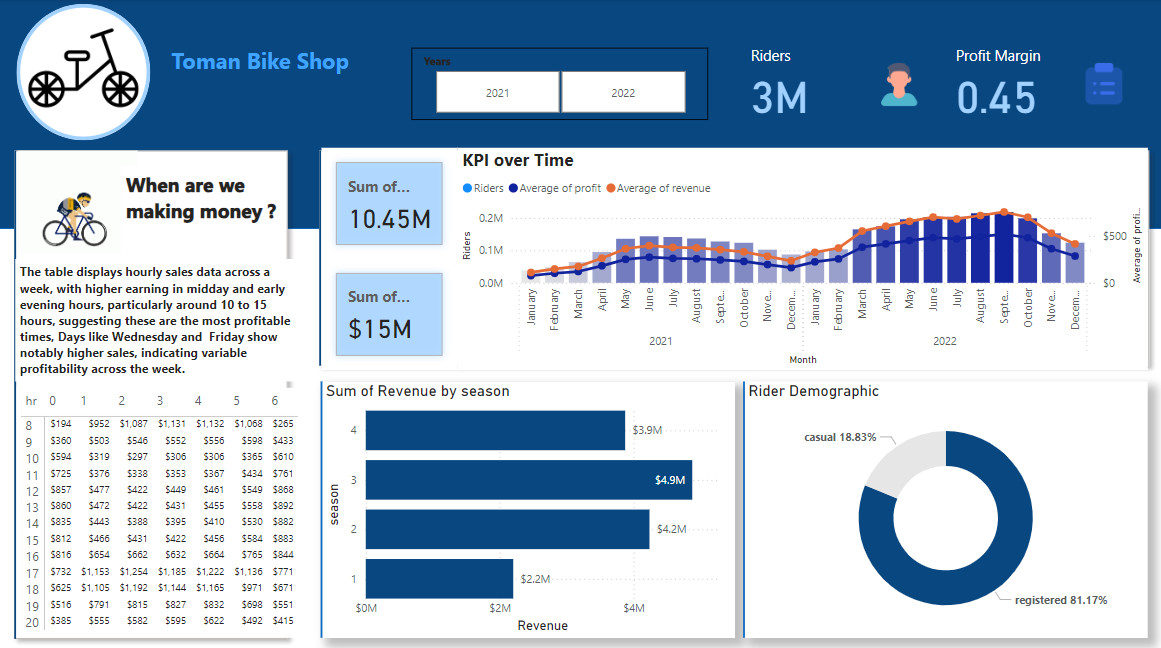

Layout of this report page (visuals, bound fields, positions):
{"tool":"powerbi","page":{"name":"Page 1","canvas":[1280,720],"ordinal":0},"visuals":[{"type":"shape","box":[0,0,1280.3,252.5],"z":0},{"type":"cardVisual","fields":{"Data":["Sum(Query1.riders)"]},"box":[0,149.6,334.8,570.8],"z":1000},{"type":"cardVisual","fields":{"Data":["Sum(Query1.riders)"]},"box":[334.8,149.6,945.5,270.3],"z":2000},{"type":"clusteredBarChart","title":"Sum of Revenue by season","fields":{"Category":["Query1.season"],"Y":["Sum(Query1.revenue)"]},"box":[354,419.9,454.2,281.3],"z":3000},{"type":"cardVisual","fields":{"Data":["Sum(Query1.riders)"]},"box":[0,149.6,177,135.8],"z":4000},{"type":"pivotTable","fields":{"Rows":["Query1.hr"],"Values":["Avg(Query1.revenue)"],"Columns":["Query1.weekday"]},"box":[19.2,426.8,317,274.4],"z":5000},{"type":"textbox","box":[134.5,183.9,179.8,101.5],"z":6000},{"type":"textbox","box":[17.8,285.4,317,134.5],"z":7000},{"type":"lineClusteredColumnComboChart","title":"KPI over Time","fields":{"Y":["Sum(Query1.riders)"],"Category":["Query1.dteday.Variation.Date Hierarchy.Year","Query1.dteday.Variation.Date Hierarchy.Month","Query1.dteday.Variation.Date Hierarchy.Day"],"Y2":["Avg(Query1.profit)","Avg(Query1.revenue)"]},"box":[503.6,163.3,757.5,244.3],"z":8000},{"type":"donutChart","title":"Rider Demographic","fields":{"Category":["Query1.rider_type"],"Y":["Sum(Query1.riders)"]},"box":[817.8,419.9,443.2,281.3],"z":9000},{"type":"shape","box":[668.3,419.9,299.1,281.3],"z":10000},{"type":"shape","box":[204.5,419.9,299.1,281.3],"z":11000},{"type":"cardVisual","title":"KPI over Time","fields":{"Data":["Sum(Query1.profit)","Sum(Query1.revenue)"]},"box":[354,163.3,149.6,244.3],"z":12000},{"type":"cardVisual","fields":{"Data":["Sum(Query1.riders)","Query1.Profit Margin"]},"box":[808.2,23.3,452.8,140],"z":13000},{"type":"shape","box":[19.2,5.5,146.8,149.6],"z":14000},{"type":"image","box":[27.4,0,130.4,149.6],"z":14001},{"type":"textbox","box":[177,46.7,219.6,65.9],"z":14002},{"type":"slicer","fields":{"Values":["Query1.Years"]},"box":[452.8,53.5,325.2,79.6],"z":14003}]}

Visuals, with their boxes in screenshot pixels (x1, y1, x2, y2), scaled from the page's 1280x720 canvas onto the 1161x648 screenshot:
shape: rect(0, 0, 1160, 227)
cardVisual - Sum(Query1.riders): rect(0, 135, 304, 647)
cardVisual - Sum(Query1.riders): rect(304, 135, 1160, 378)
"Sum of Revenue by season" clusteredBarChart: rect(321, 378, 733, 631)
cardVisual - Sum(Query1.riders): rect(0, 135, 161, 257)
pivotTable - Query1.hr x Avg(Query1.revenue): rect(17, 384, 305, 631)
textbox: rect(122, 166, 285, 257)
textbox: rect(16, 257, 304, 378)
"KPI over Time" lineClusteredColumnComboChart: rect(457, 147, 1144, 367)
"Rider Demographic" donutChart: rect(742, 378, 1144, 631)
shape: rect(606, 378, 877, 631)
shape: rect(185, 378, 457, 631)
"KPI over Time" cardVisual: rect(321, 147, 457, 367)
cardVisual - Sum(Query1.riders) x Query1.Profit Margin: rect(733, 21, 1144, 147)
shape: rect(17, 5, 151, 140)
image: rect(25, 0, 143, 135)
textbox: rect(161, 42, 360, 101)
slicer - Query1.Years: rect(411, 48, 706, 120)
